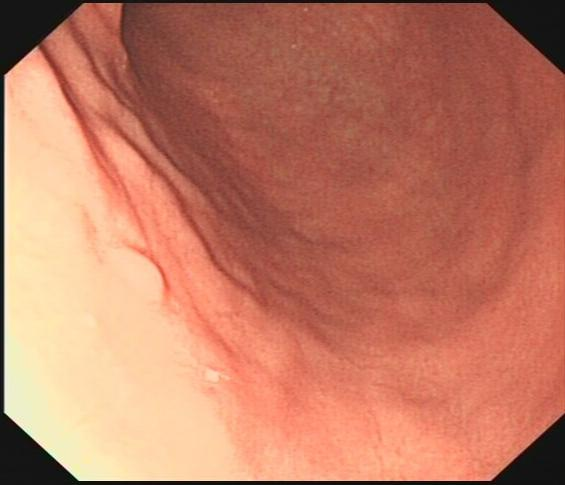Polyp: (102, 241, 170, 309)
